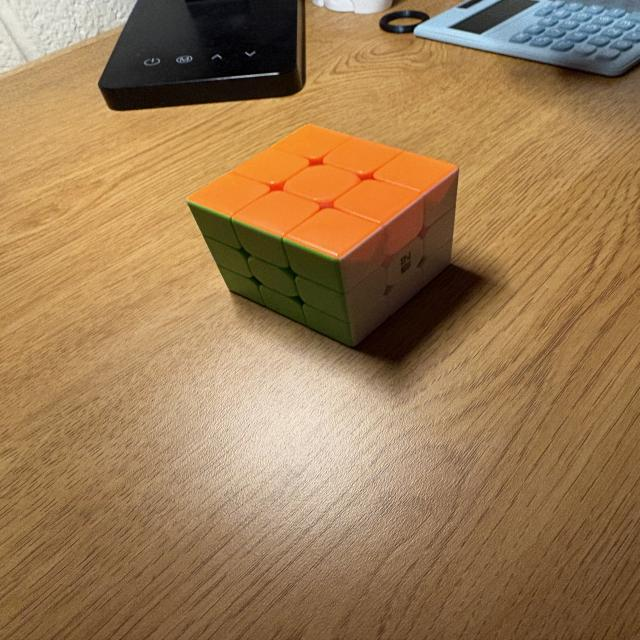Rubiks Cube: (185, 125, 458, 345)
